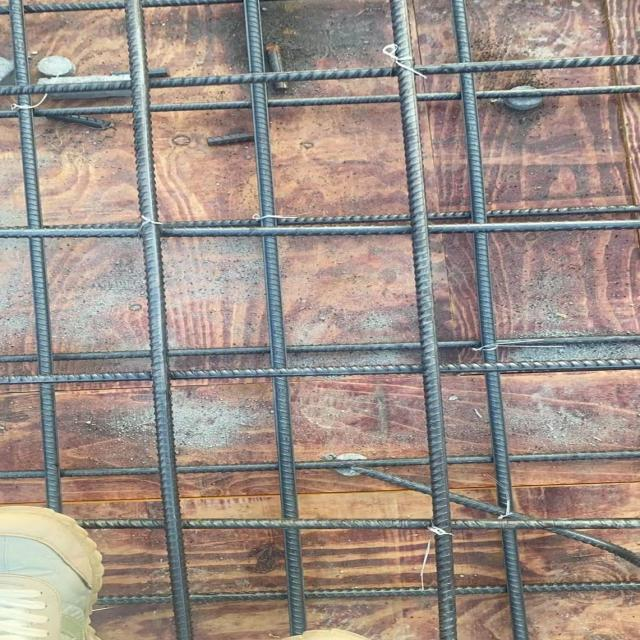ribbed bar: (450, 0, 529, 639), (121, 2, 194, 639), (387, 0, 458, 639), (242, 0, 306, 639), (0, 51, 638, 97), (6, 0, 60, 514), (0, 83, 638, 119), (0, 332, 638, 363), (0, 448, 638, 479), (0, 203, 637, 233), (0, 356, 638, 385), (92, 578, 639, 605), (0, 219, 638, 242), (73, 517, 638, 531)
